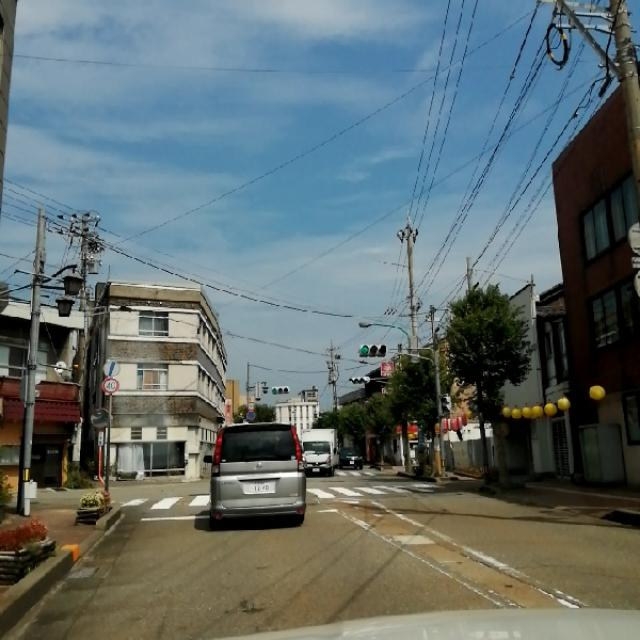pothole: (457, 540, 596, 599)
